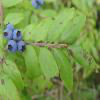Blueberry leaf: (45, 4, 76, 44), (52, 47, 75, 94), (66, 44, 99, 76), (59, 15, 91, 46), (3, 59, 27, 99), (37, 46, 59, 85), (32, 17, 56, 42), (24, 45, 38, 81)
